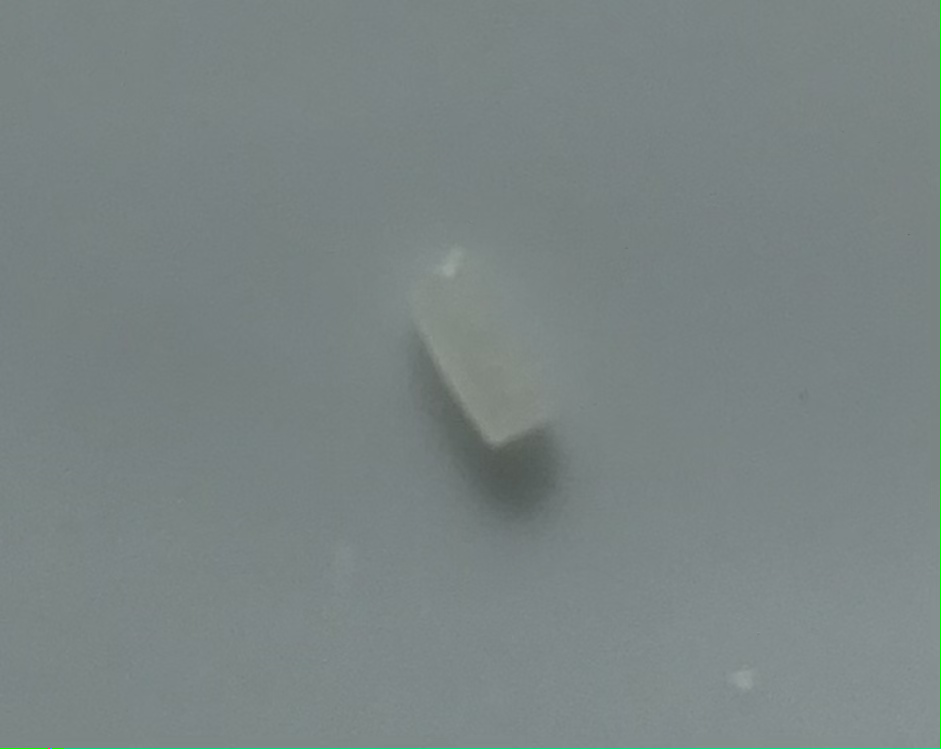Gao Tam: (409, 241, 564, 453)
